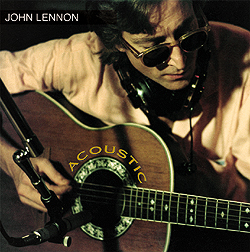guitar: (1, 88, 246, 252)
